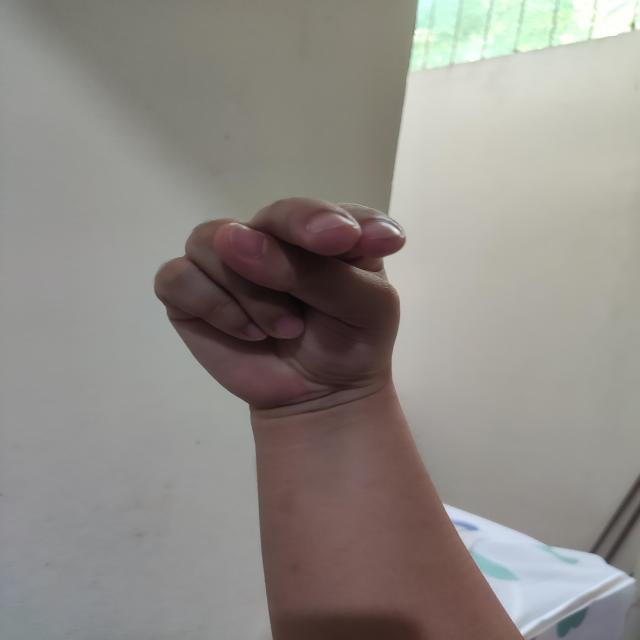N: (154, 196, 406, 410)
